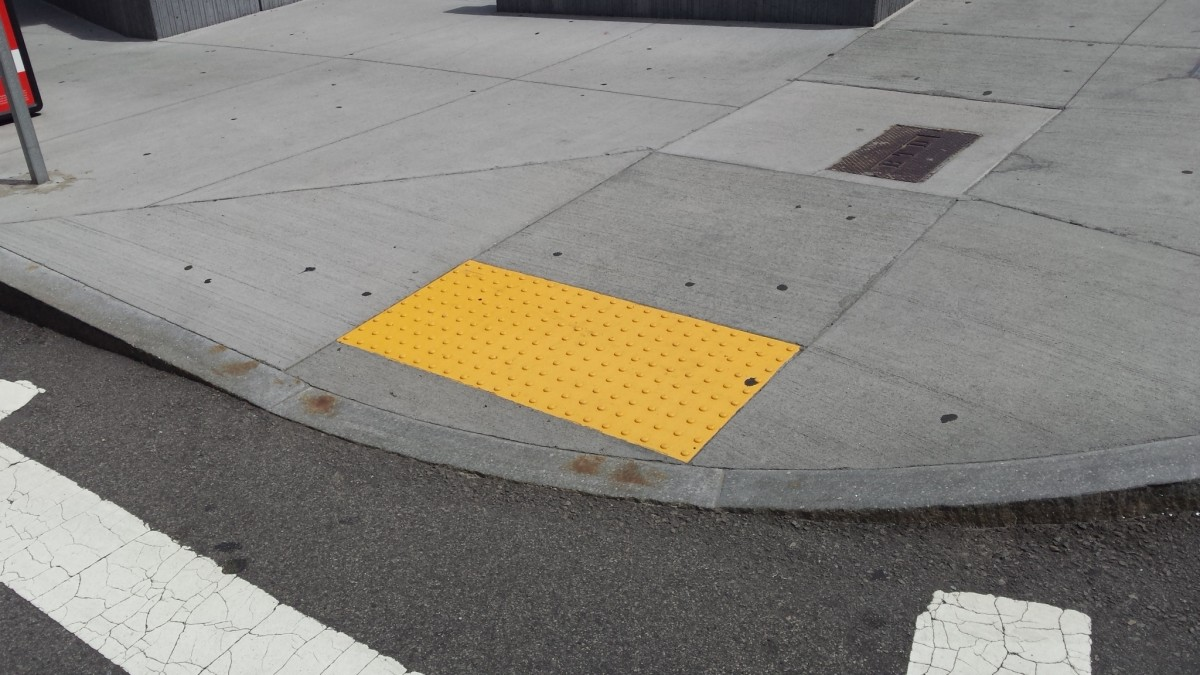ramp: (182, 127, 939, 598)
